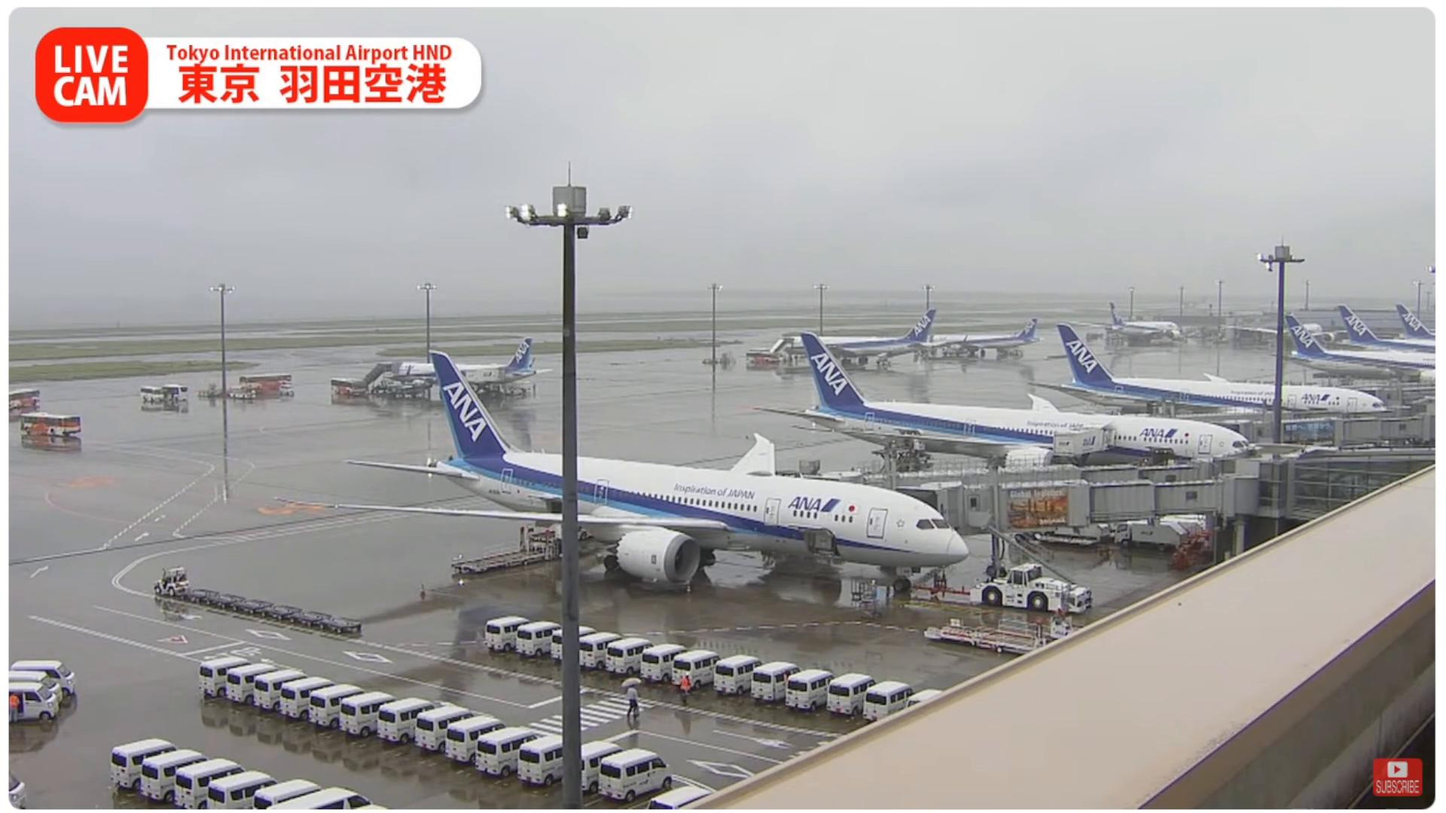APS: (968, 562, 1094, 614)
Aerobridge: (796, 455, 1210, 515), (990, 474, 1182, 535)
Airplane: (270, 351, 970, 592)
Dolly: (182, 588, 360, 634)
JCPL: (924, 609, 1083, 656), (452, 525, 561, 575)
Tractor: (154, 566, 191, 596)
Window: (1292, 458, 1433, 516)
